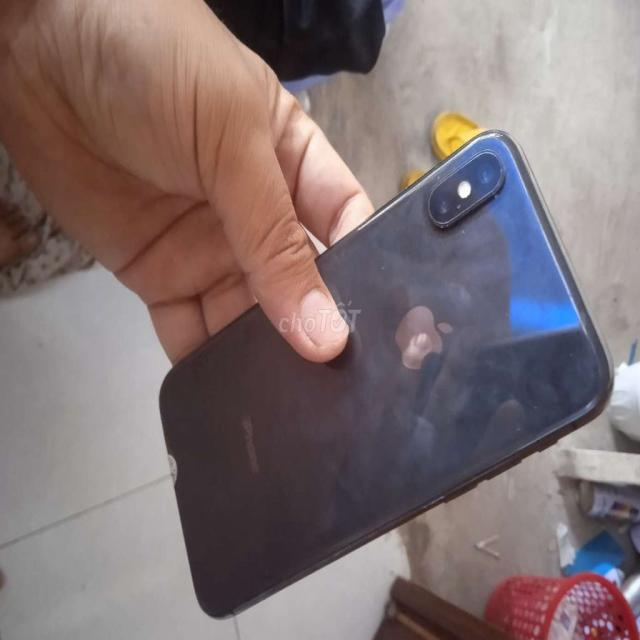gen_x_xs: (161, 131, 612, 618)
scratch: (362, 254, 403, 284), (452, 219, 472, 244), (491, 177, 503, 213), (492, 160, 507, 183), (433, 169, 443, 188)
